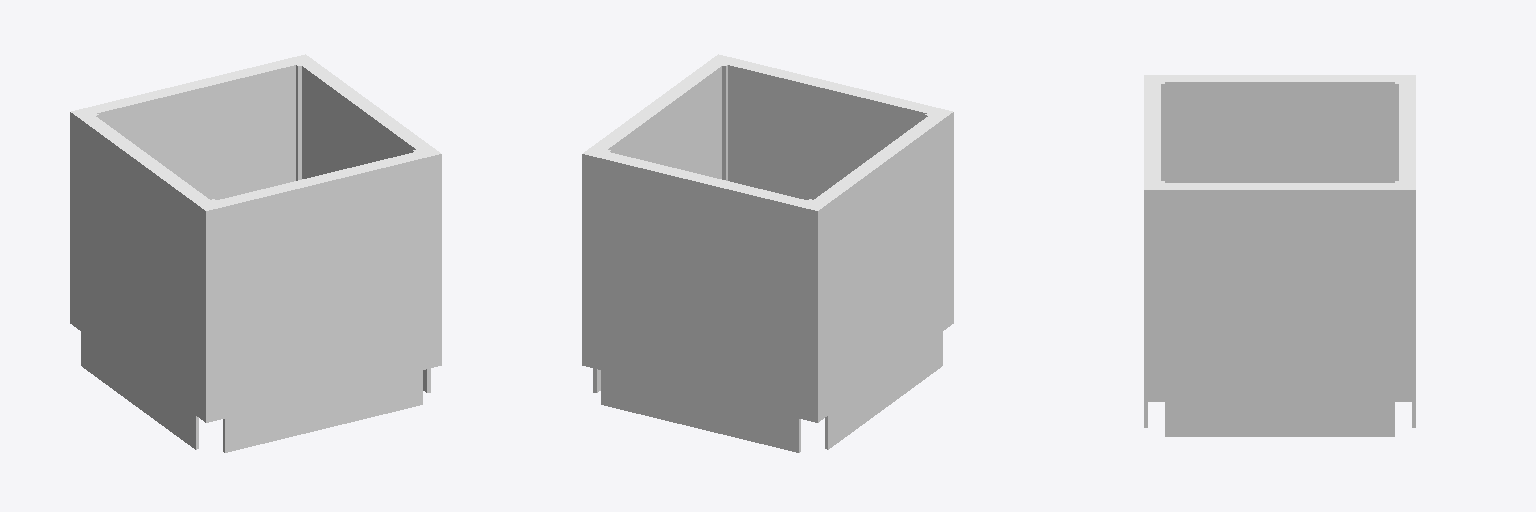
File: Wall-1111.obj
3 views of the same model, side by side, from view 1: azimuth 30°, elevation 25°; view 2: azimuth 150°, elevation 25°; view 3: azimuth 270°, elevation 25° (orthographic).
Size of the model in its own units: 64 by 64 by 64.